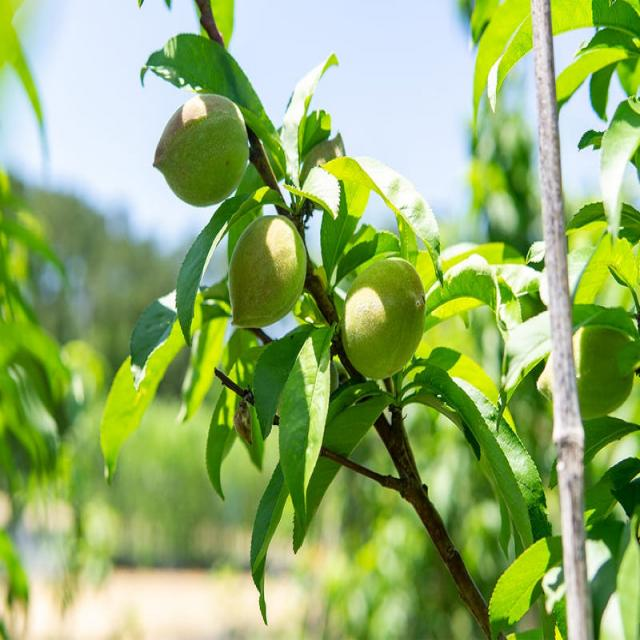Peach: (123, 6, 524, 604)
